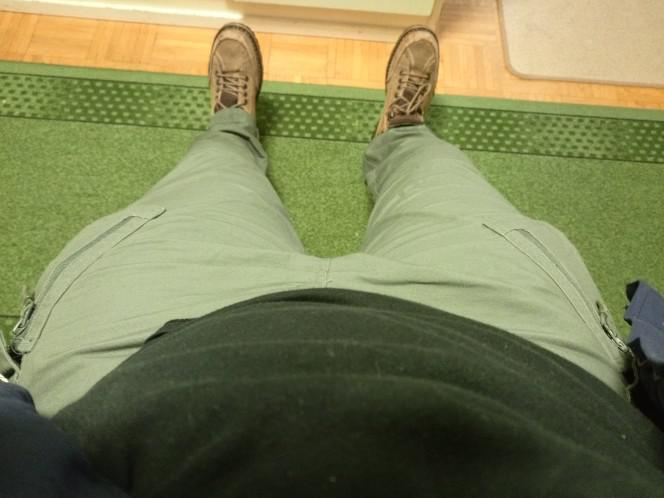pants: (9, 132, 636, 420)
